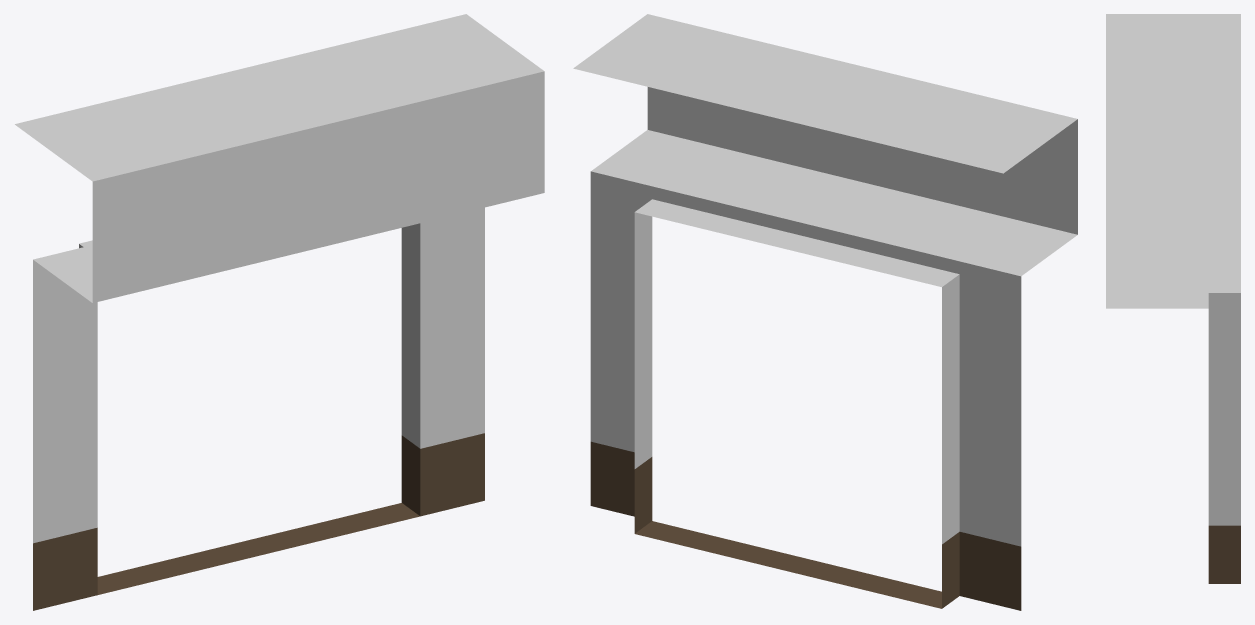
File: M_WallDoorGH250DWhite80-3.fbx
3 views of the same model, side by side, from view 1: azimuth 30°, elevation 25°; view 2: azimuth 150°, elevation 25°; view 3: azimuth 270°, elevation 25° (orthographic). The views are drawn at different scales.
Parts seen in each view (by area): view 1: M_WallDoorGH250DWhite80-3; view 2: M_WallDoorGH250DWhite80-3; view 3: M_WallDoorGH250DWhite80-3.
Part boxes in pixels (bbox=[...]): M_WallDoorGH250DWhite80-3: bbox=[15, 14, 544, 610]; M_WallDoorGH250DWhite80-3: bbox=[573, 14, 1077, 610]; M_WallDoorGH250DWhite80-3: bbox=[1106, 14, 1240, 583].
Size of the model in its own units: 350 by 105 by 350.
